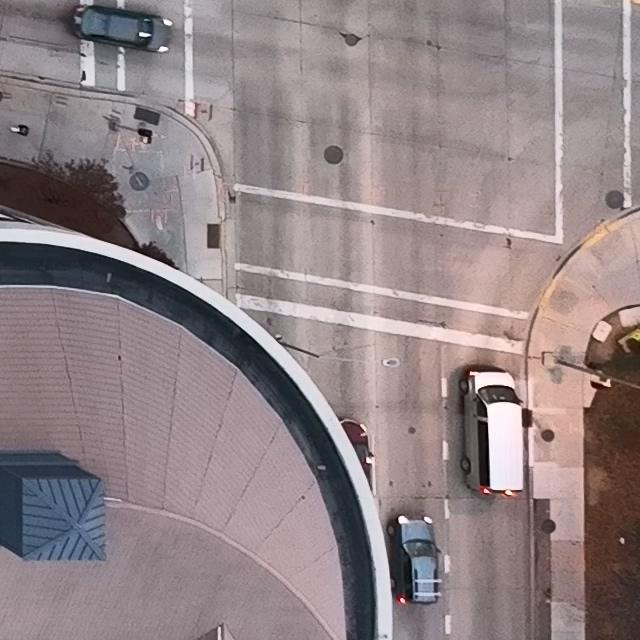car: (459, 363, 525, 497), (68, 4, 174, 54), (385, 513, 442, 605), (339, 416, 375, 492)
